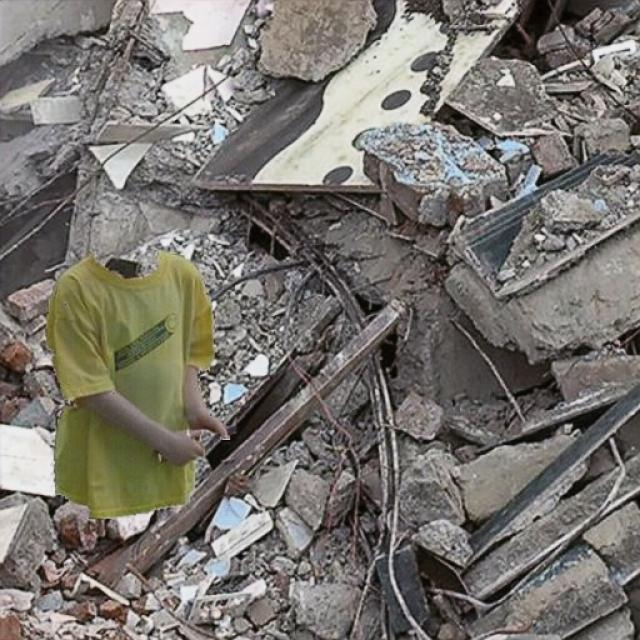Person in Rubble: (44, 250, 238, 519)
